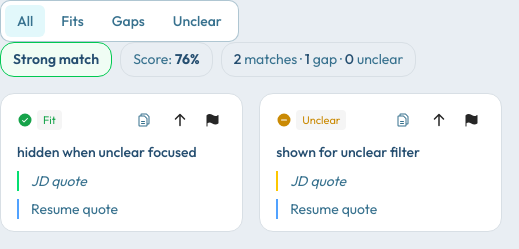
Test: MatchTabContent › shows only Unclear when Unclear tab selected
Step 1. Click the tab "Unclear" → (197, 21), box [161,5,234,37]
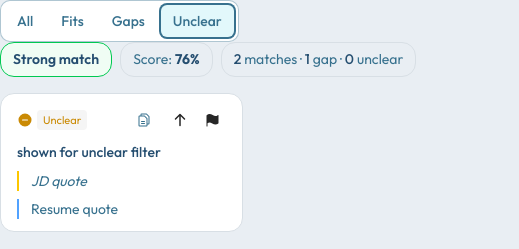
Check: the text "shown for unclear filter" is shown, box [17,143,161,161]
Check: the text "hidden when unclear focused" is gone
